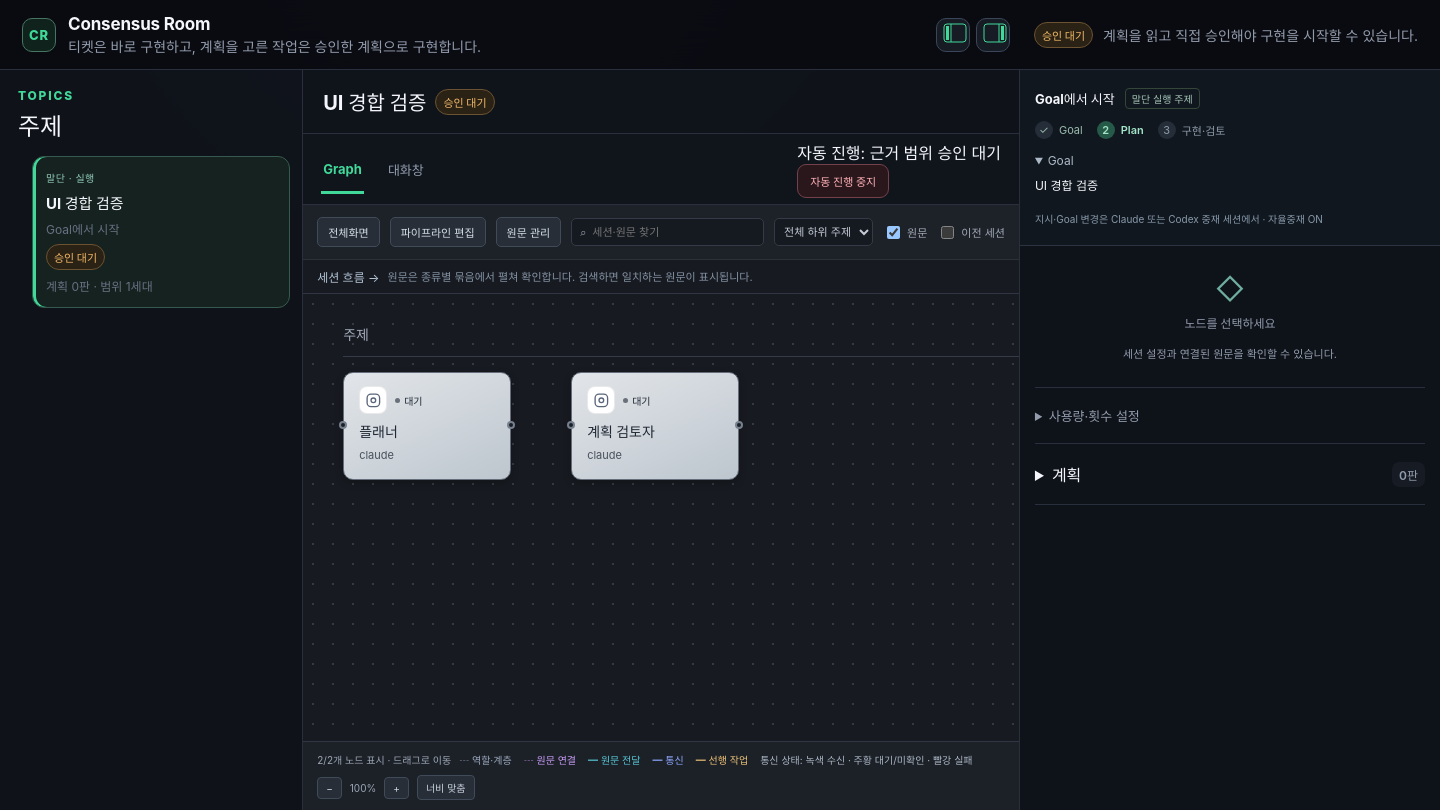
Scenario: shows a queued continuation and permits stopping it before a model runs
Expected: the text "자동 진행: 근거 범위 승인 대기" is shown, left=797, top=140, right=1001, bottom=164
Click the button "자동 진행 중지": {"x": 843, "y": 181} left=797, top=164, right=889, bottom=198
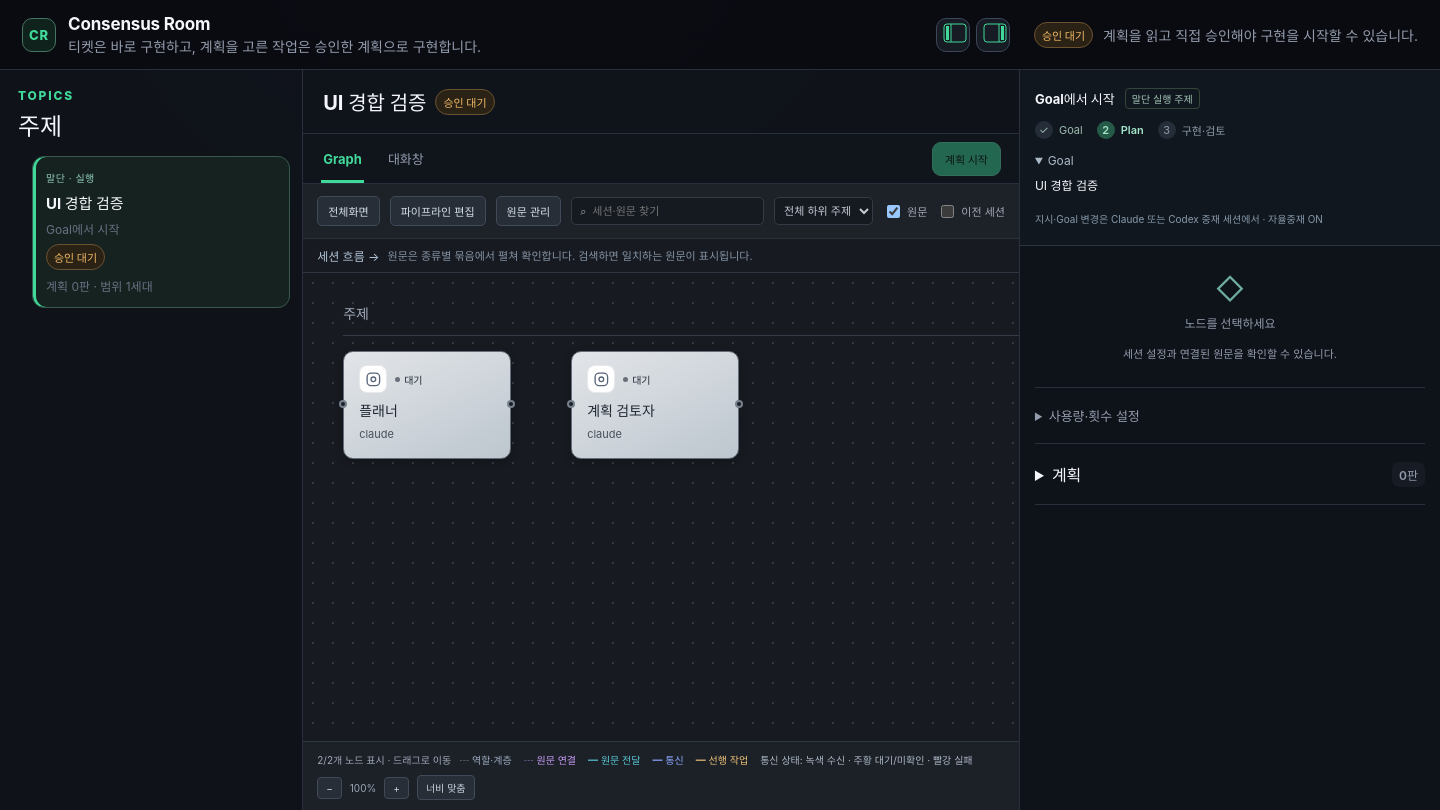
Now the button "자동 진행 중지" is gone
